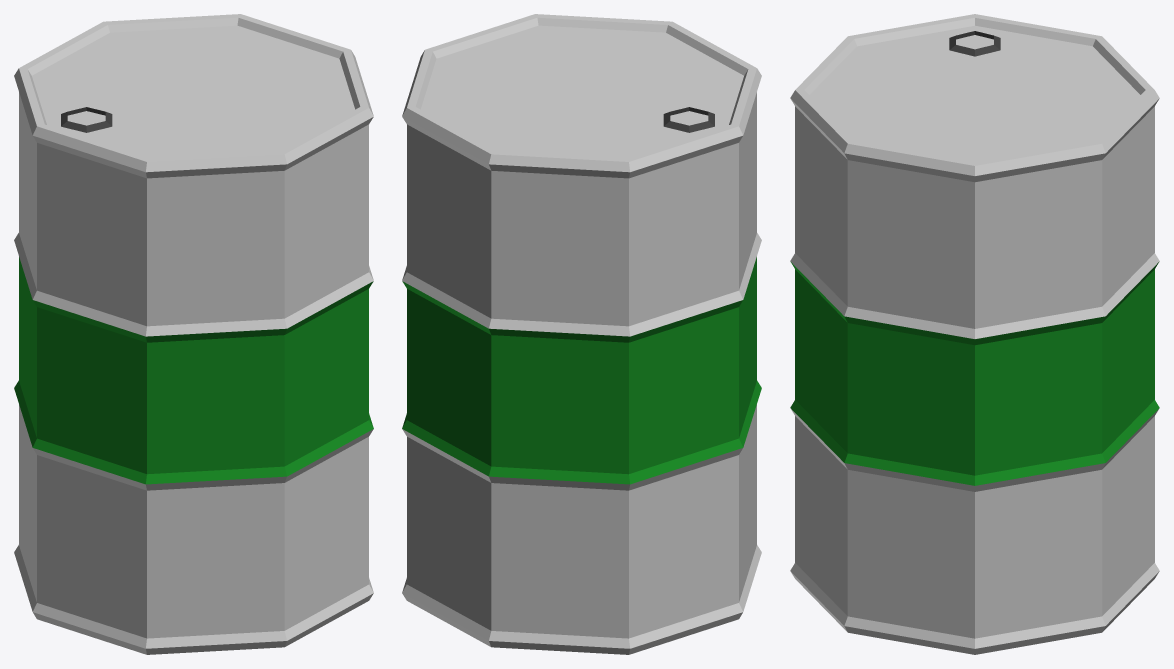
The model's file is DrumWhiteGreen.fbx.
3 renders of one model, left to right at view 1: azimuth 30°, elevation 25°; view 2: azimuth 150°, elevation 25°; view 3: azimuth 270°, elevation 25°, orthographic.
Parts seen in each view (by area): view 1: Cylinder; view 2: Cylinder; view 3: Cylinder.
Part boxes in pixels (<box>): Cylinder: <box>14,14,373,654</box>; Cylinder: <box>402,14,761,654</box>; Cylinder: <box>790,14,1159,654</box>.
Size of the model in its own units: 0.822 by 1.2 by 0.822.
